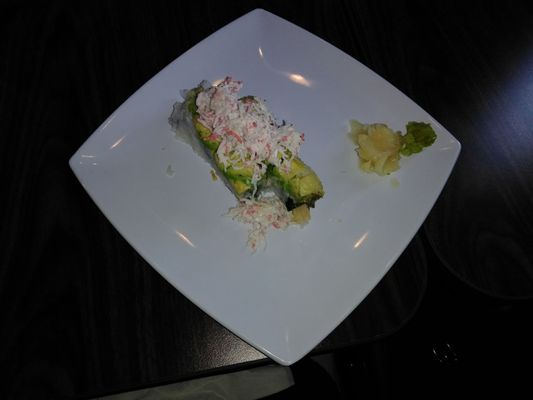curry: (1, 2, 503, 399)
sandwich: (168, 74, 326, 256)
